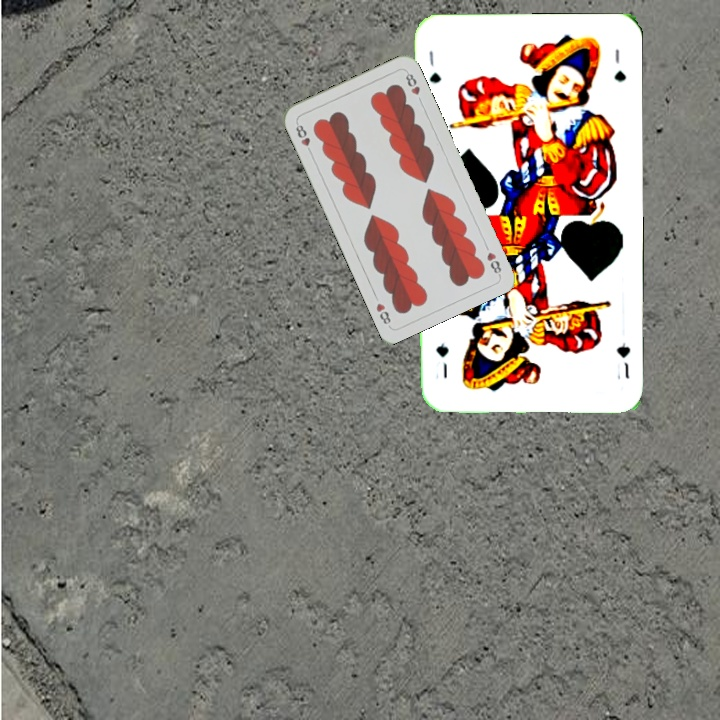GU: (612, 338, 633, 382), (425, 47, 444, 86)
H8: (291, 118, 315, 157), (483, 248, 504, 278)
